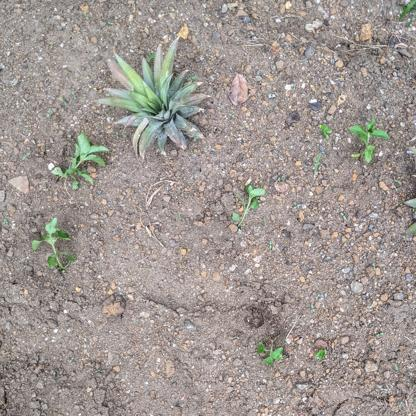pineapple: (96, 36, 211, 158)
weed: (50, 132, 110, 195), (33, 216, 80, 280), (349, 120, 391, 171), (235, 182, 268, 232), (251, 336, 290, 367)
